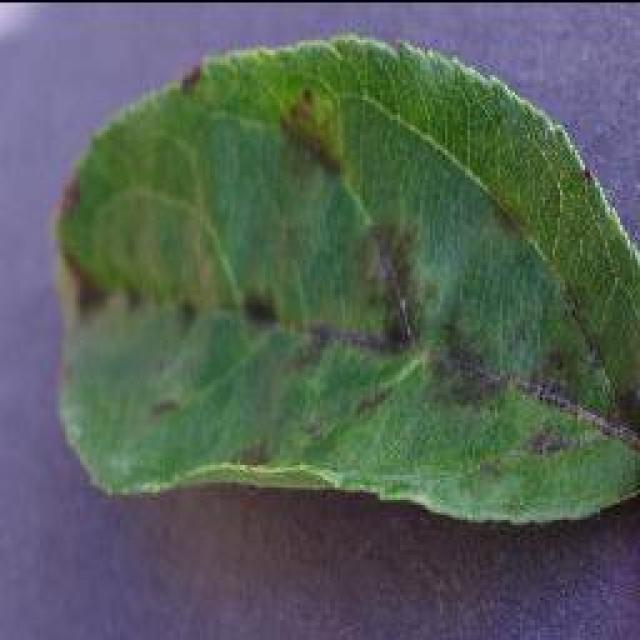apple scab disease: (50, 30, 638, 528)
